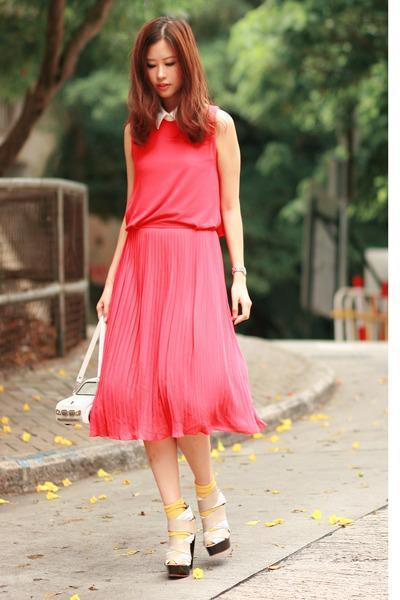bag: (60, 372, 96, 419)
dress: (89, 119, 264, 439)
shoe: (161, 509, 231, 579)
